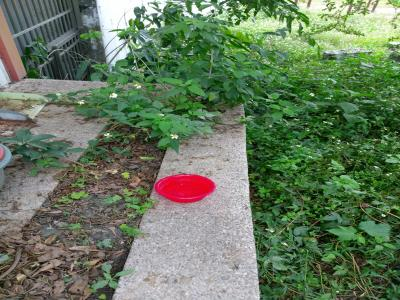plate: (152, 171, 219, 206)
